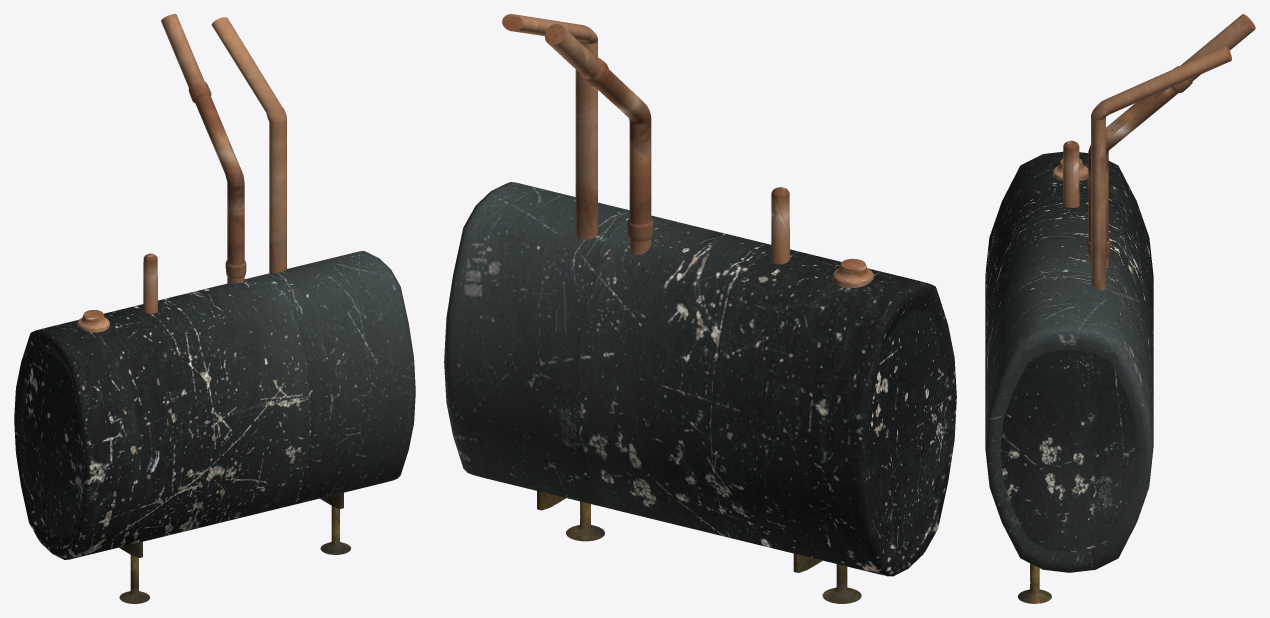
File: oilTank.fbx
3 views of the same model, side by side, from view 1: azimuth 30°, elevation 25°; view 2: azimuth 150°, elevation 25°; view 3: azimuth 270°, elevation 25° (orthographic). The views are drawn at different scales.
Parts seen in each view (by area): view 1: polySurface6; view 2: polySurface6; view 3: polySurface6.
Boxes of the visible parts, bbox=[...] form: polySurface6: bbox=[14, 14, 415, 603]; polySurface6: bbox=[444, 14, 956, 603]; polySurface6: bbox=[985, 14, 1255, 603].
Bounding box in the file's own units: 15.25 × 21.18 × 9.57.
